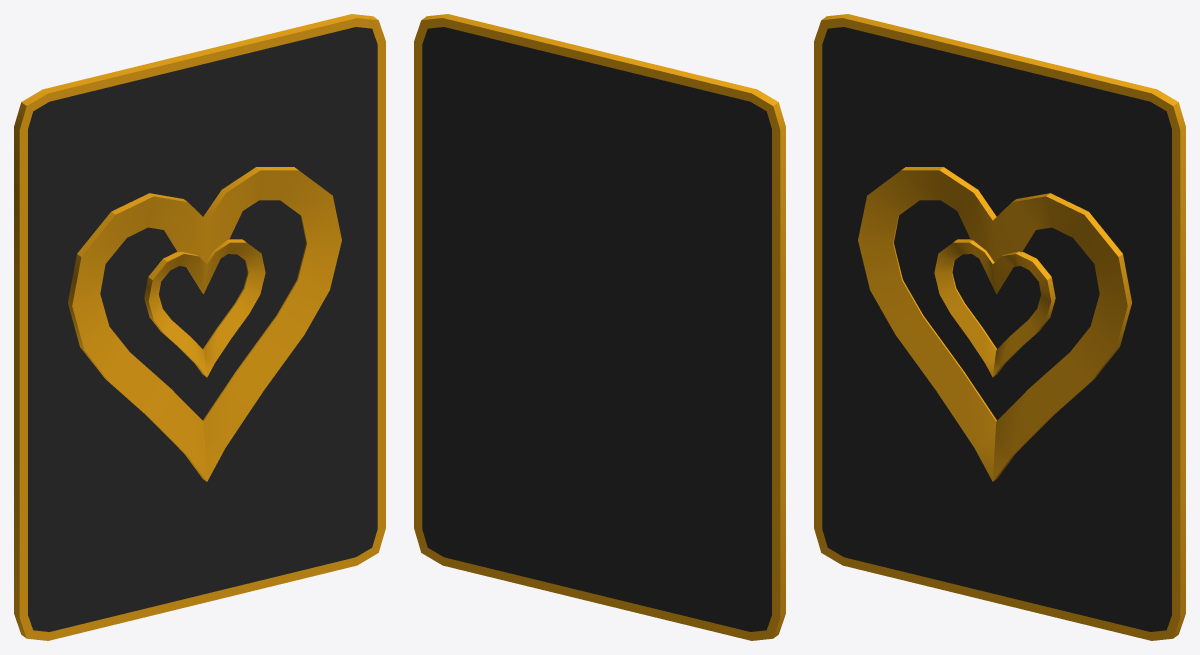
File: Card.FBX
3 renders of one model, left to right at view 1: azimuth 30°, elevation 25°; view 2: azimuth 150°, elevation 25°; view 3: azimuth 330°, elevation 25°, orthographic.
Visible parts, largest first — view 1: Plane012; view 2: Plane012; view 3: Plane012.
Part boxes in pixels (box(x1,y1,x2,y2)): Plane012: box(14, 14, 385, 640); Plane012: box(414, 14, 785, 640); Plane012: box(814, 14, 1185, 640).
Bounding box in the file's own units: 66.74 × 3.12 × 95.34.
